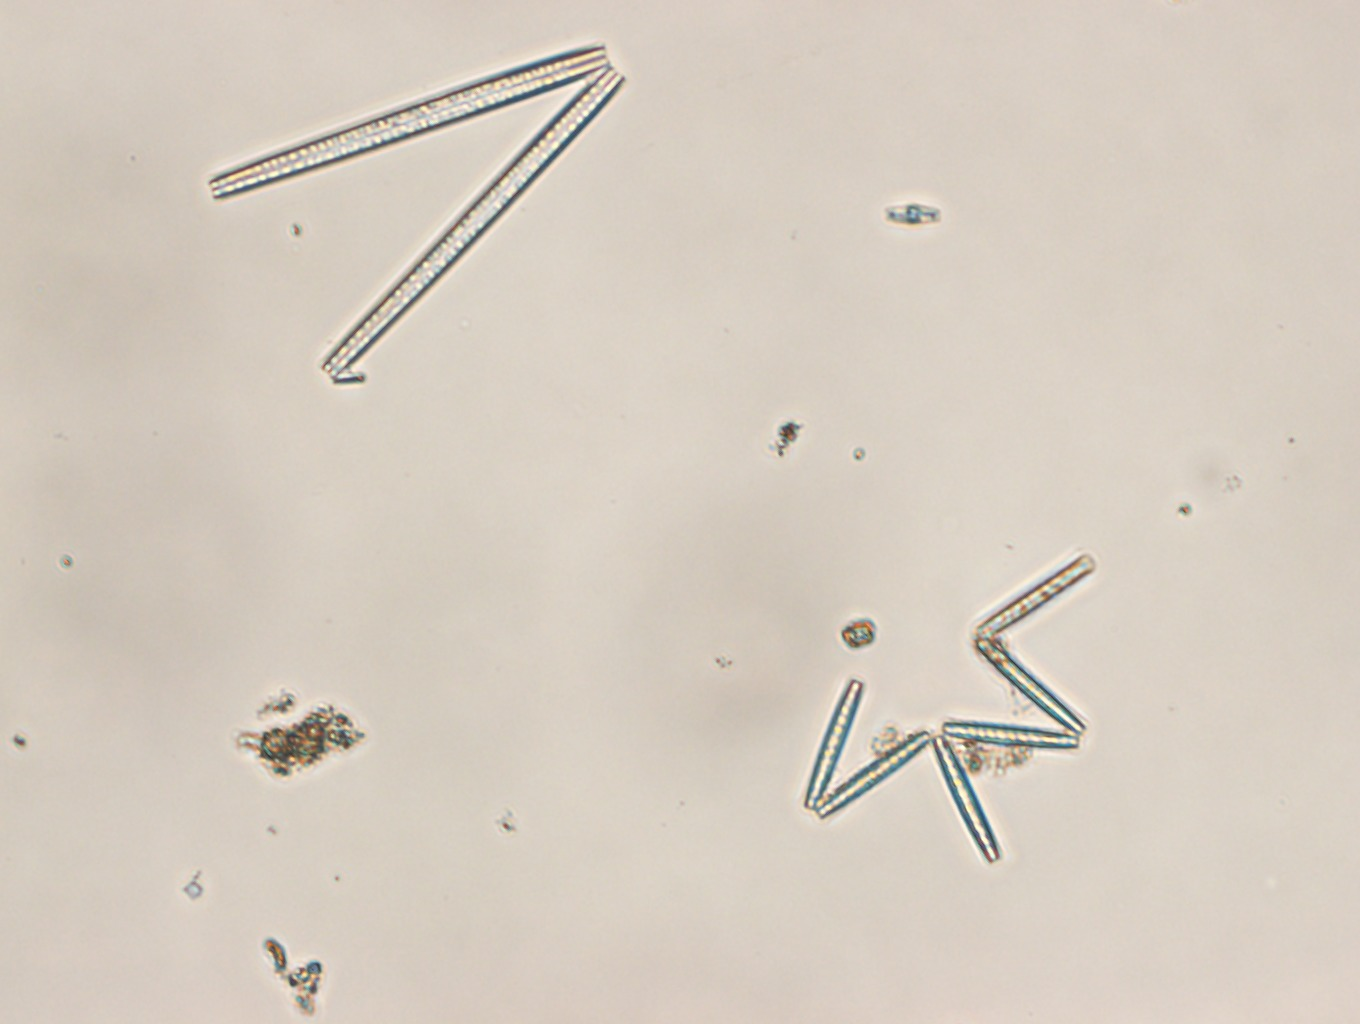thalassionema nitzschioides: (205, 39, 625, 386), (807, 546, 1097, 866)
